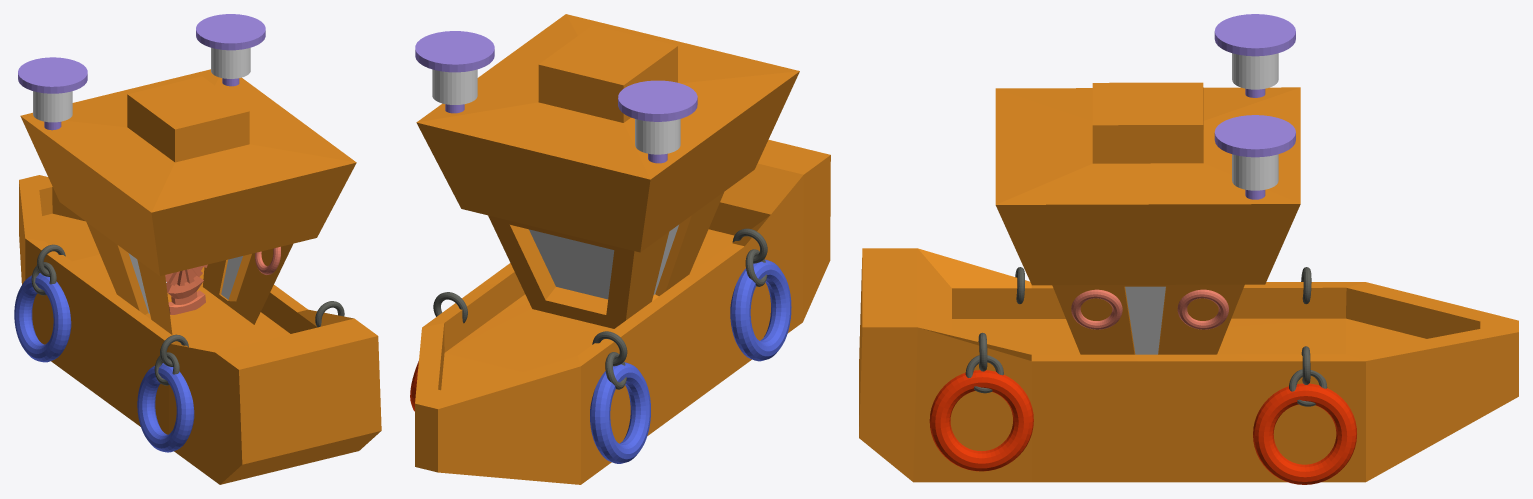
File: boat.fbx
The picture shows the model from 3 angles, left to right: view 1: azimuth 30°, elevation 25°; view 2: azimuth 150°, elevation 25°; view 3: azimuth 270°, elevation 25°; orthographic projection. The views are drawn at different scales.
Visible parts, largest first — view 1: Cube, Torus.013, Torus.010, Cylinder.001, Cylinder, Cylinder.004, Cylinder.003, Cylinder.002, Cube.003, Torus.004; view 2: Cube, Torus.010, Torus.013, Cube.002, Cylinder.001, Cylinder, Cylinder.003, Cylinder.002, Torus.008, Torus.011, Torus.002; view 3: Cube, Torus.007, Torus.003, Cylinder, Cylinder.001, Cube.003, Cylinder.002, Cylinder.003, Torus.005, Torus.004.
Part boxes in pixels (left/top/right/bottom): Cube: left=19, top=69, right=381, bottom=484; Torus.013: left=14, top=273, right=71, bottom=362; Torus.010: left=137, top=363, right=194, bottom=452; Cylinder.001: left=18, top=57, right=87, bottom=130; Cylinder: left=196, top=14, right=265, bottom=86; Cylinder.004: left=165, top=264, right=207, bottom=314; Cylinder.003: left=33, top=91, right=72, bottom=122; Cylinder.002: left=211, top=47, right=250, bottom=78; Cube.003: left=221, top=256, right=242, bottom=299; Torus.004: left=255, top=246, right=280, bottom=274; Cube: left=415, top=14, right=830, bottom=484; Torus.010: left=730, top=259, right=791, bottom=361; Torus.013: left=590, top=362, right=650, bottom=463; Cube.002: left=529, top=229, right=614, bottom=299; Cylinder.001: left=618, top=80, right=697, bottom=163; Cylinder: left=415, top=31, right=494, bottom=113; Cylinder.003: left=635, top=119, right=680, bottom=154; Cylinder.002: left=432, top=69, right=477, bottom=104; Torus.008: left=732, top=228, right=767, bottom=263; Torus.011: left=592, top=331, right=627, bottom=366; Torus.002: left=433, top=292, right=467, bottom=323; Cube: left=859, top=82, right=1518, bottom=482; Torus.007: left=1253, top=383, right=1356, bottom=484; Torus.003: left=929, top=370, right=1033, bottom=471; Cylinder: left=1214, top=115, right=1295, bottom=199; Cylinder.001: left=1214, top=14, right=1295, bottom=97; Cube.003: left=1125, top=286, right=1165, bottom=354; Cylinder.002: left=1232, top=154, right=1278, bottom=190; Cylinder.003: left=1232, top=53, right=1278, bottom=89; Torus.005: left=1177, top=289, right=1228, bottom=329; Torus.004: left=1071, top=289, right=1122, bottom=329.
Bounding box in the file's own units: 342 × 425 × 705.
